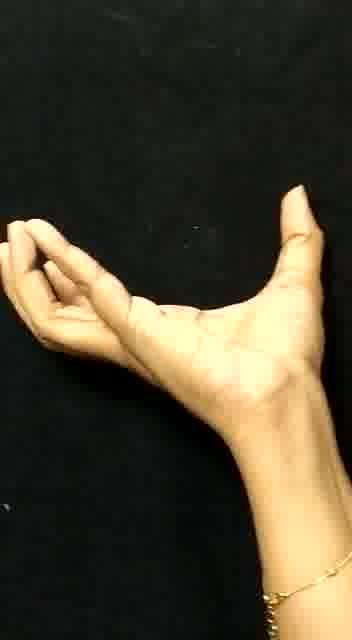padamkosh: (4, 176, 352, 438)
